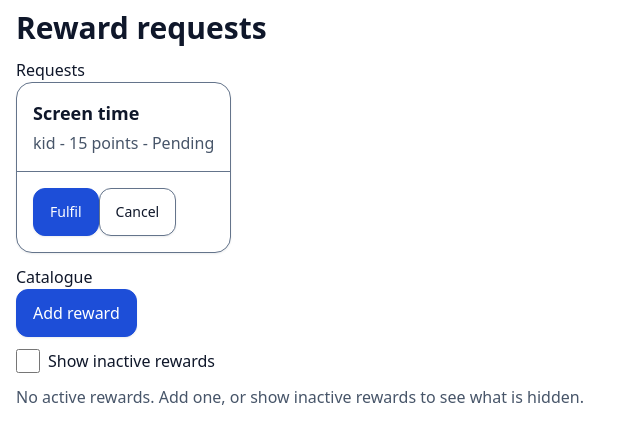
Scenario: the request queue › cancelling a request refunds it and shows a recoverable error on failure
Click the button with aria-label "Cancel Screen time for kid": click(137, 212) [99,188,176,236]
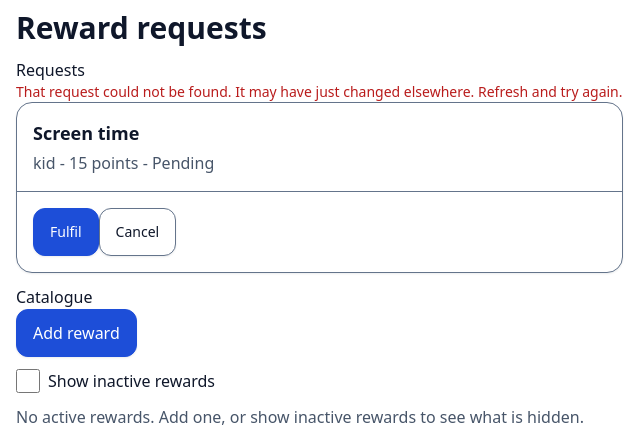
Check: the text "That request could not be found" is shown, box [16,82,622,101]
